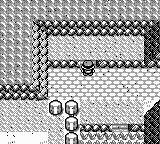captura: (80, 132, 144, 143)
main: (81, 60, 95, 76)
no-caminable: (1, 0, 160, 100), (48, 100, 80, 143), (144, 100, 160, 143)
salto: (97, 60, 143, 68), (80, 124, 111, 131), (81, 124, 111, 131), (48, 61, 81, 66), (128, 124, 143, 131)
